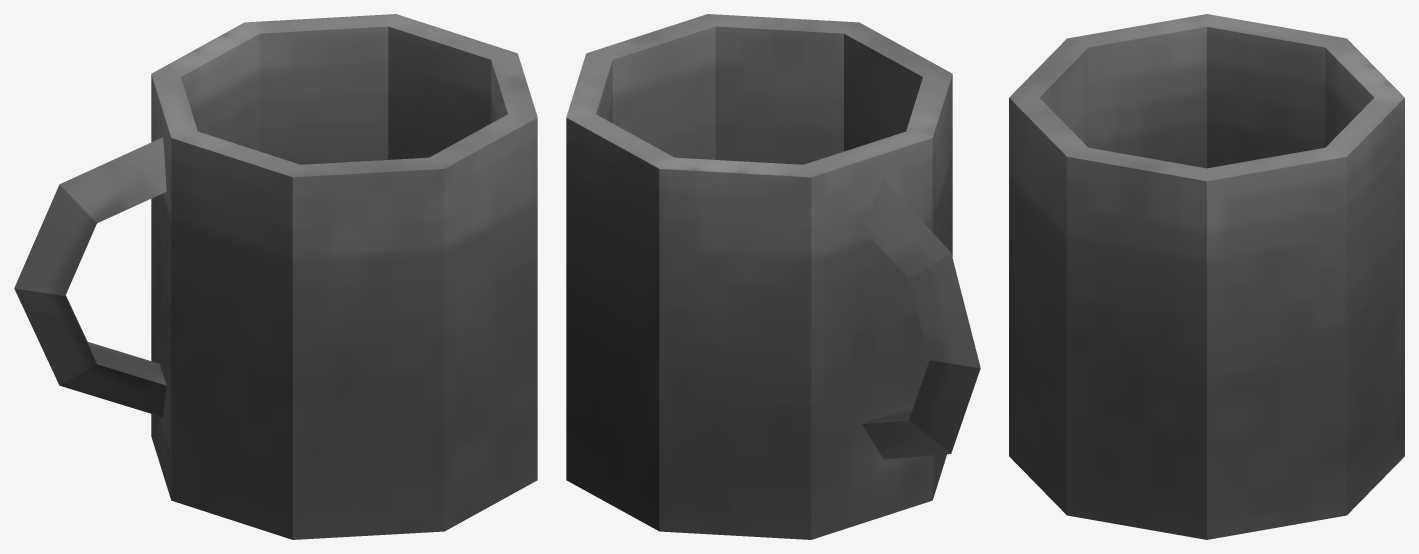
The model's file is krushka.fbx.
3 renders of one model, left to right at view 1: azimuth 30°, elevation 25°; view 2: azimuth 150°, elevation 25°; view 3: azimuth 270°, elevation 25°, orthographic.
Visible parts, largest first — view 1: Torus; view 2: Torus; view 3: Torus.
Boxes of the visible parts, bbox=[...] form: Torus: bbox=[14, 14, 537, 539]; Torus: bbox=[566, 14, 980, 539]; Torus: bbox=[1009, 14, 1404, 539].
Bounding box in the file's own units: 49.57 × 38.25 × 38.25.
